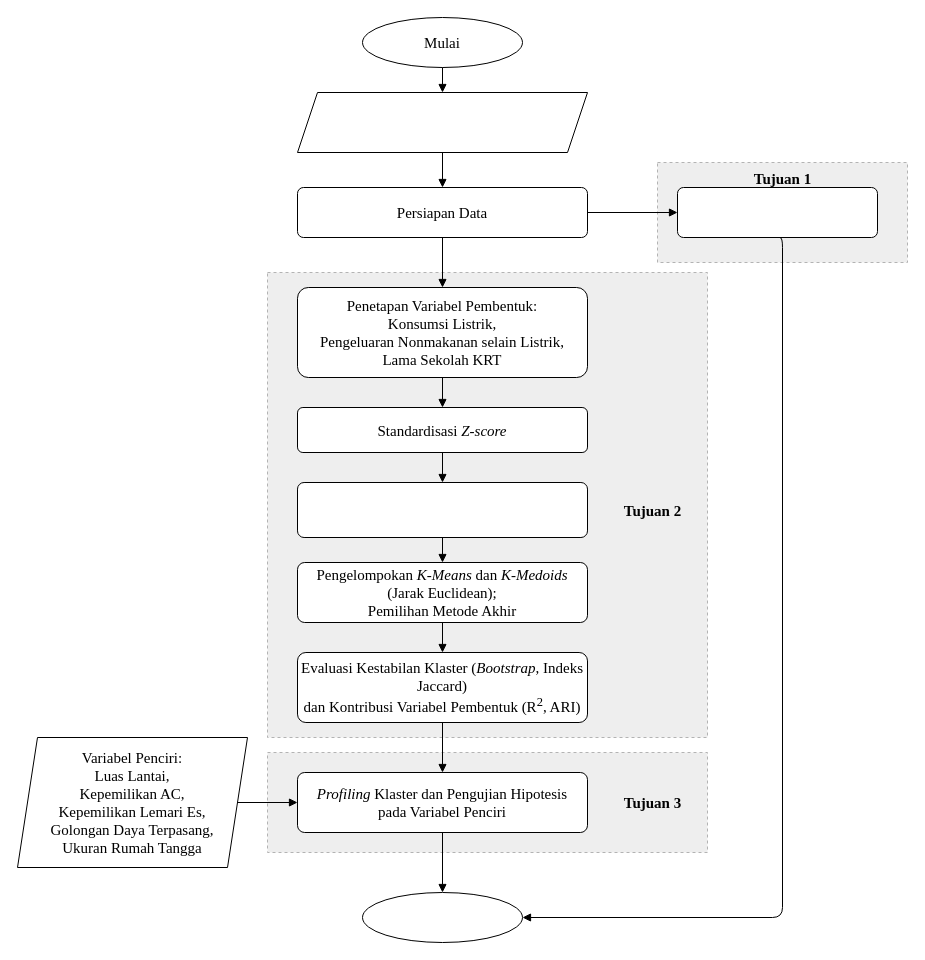
Image size: 925x960. Some labels were removed from this diagram. The centre of each missing label's shape, as x and y in pixels:
"Analisis Deskriptif" goes at point 777,212.
"Mikrodata Susenas Maret 2025, Provinsi DKI Jakarta" goes at point 442,122.
"Penentuan Jumlah Klaster (Metode Elbow dan Koefisien Silhouette )" goes at point 442,510.
"Selesai" goes at point 442,917.
